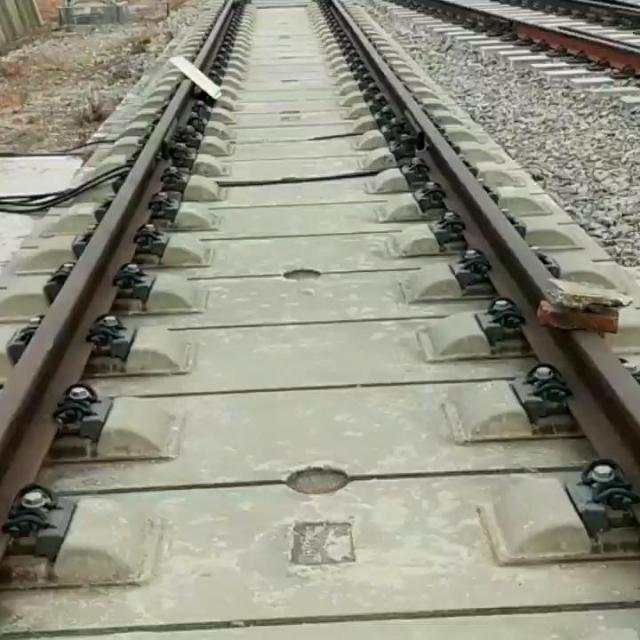danger: (531, 276, 638, 342), (168, 50, 231, 105)
rail: (331, 0, 640, 492), (0, 79, 193, 525), (392, 0, 640, 75), (508, 0, 640, 28), (192, 0, 238, 70)
